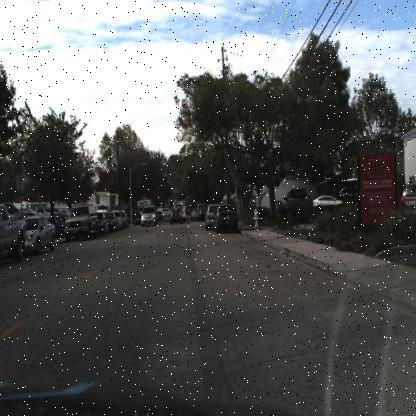car: (62, 197, 101, 245), (23, 210, 59, 260), (284, 184, 312, 226), (211, 200, 238, 240), (310, 186, 346, 215), (286, 181, 314, 214), (198, 198, 216, 239), (138, 202, 160, 232), (167, 202, 184, 229), (94, 209, 108, 238), (96, 202, 107, 236), (205, 201, 216, 234)
